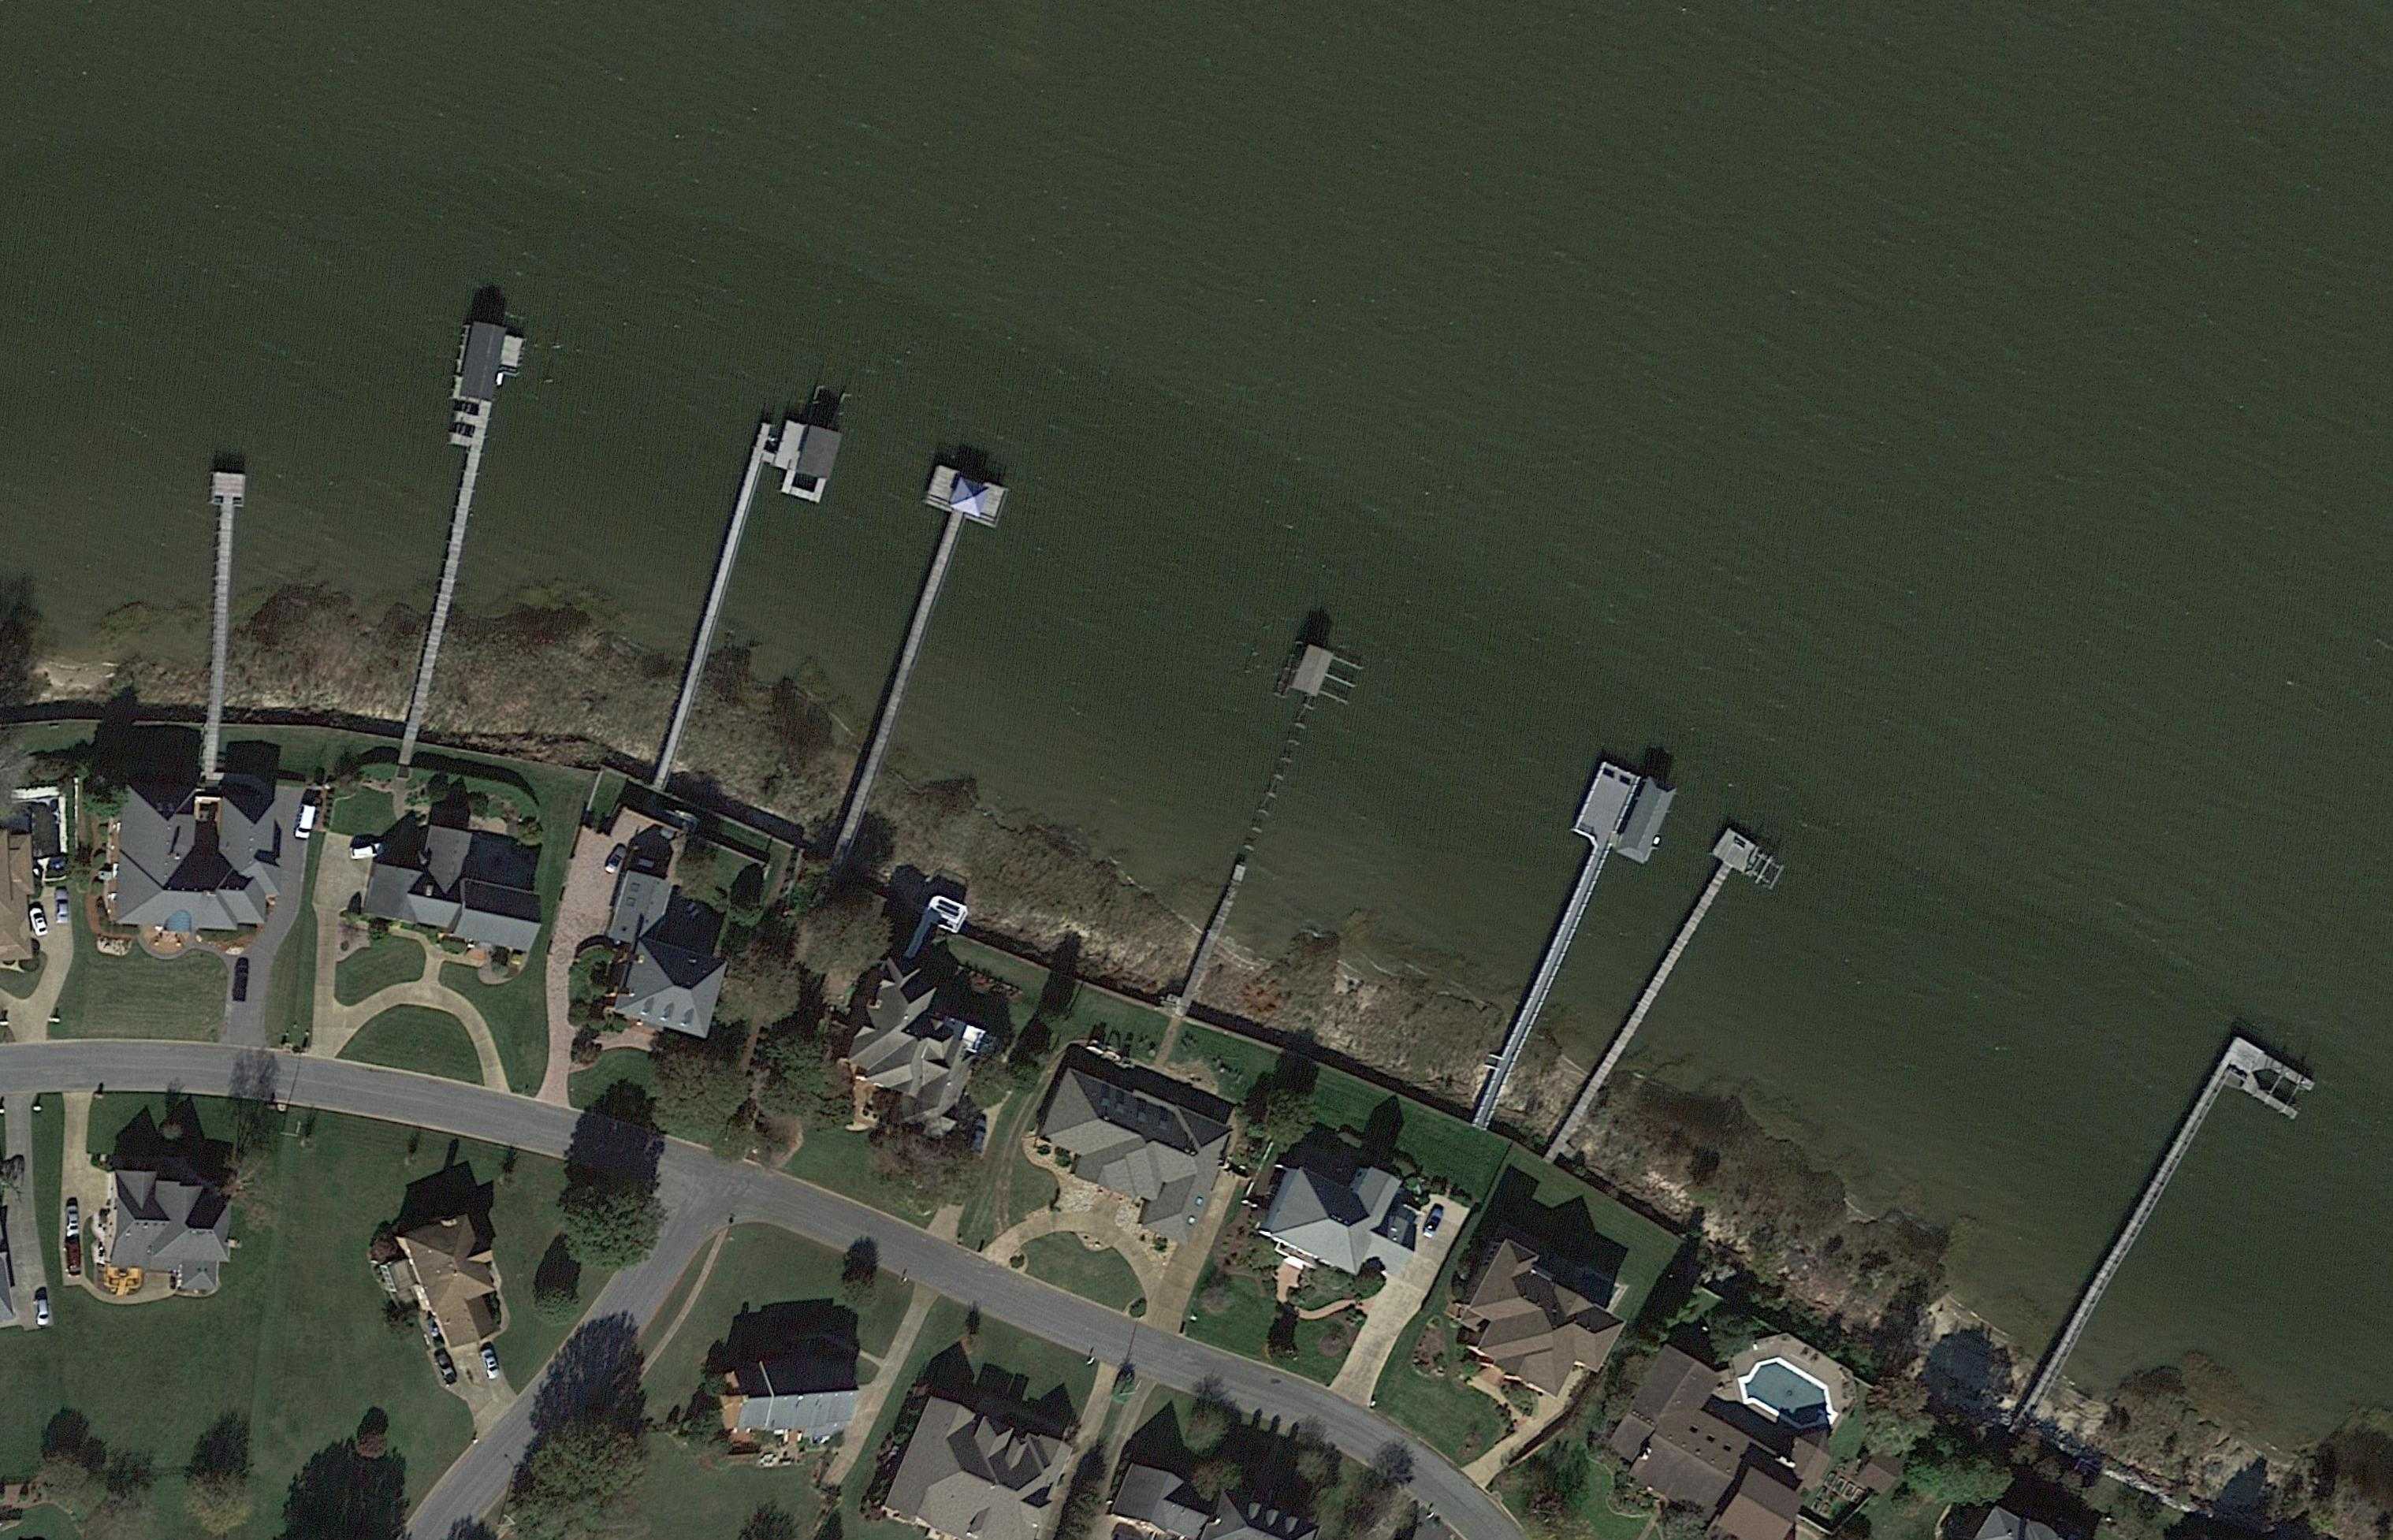harbor: (2042, 1032, 2316, 1414), (1544, 823, 1790, 1181), (1442, 762, 1678, 1135), (813, 460, 1010, 881), (647, 408, 846, 816), (1172, 617, 1371, 1006), (380, 319, 527, 741), (197, 473, 246, 722)
